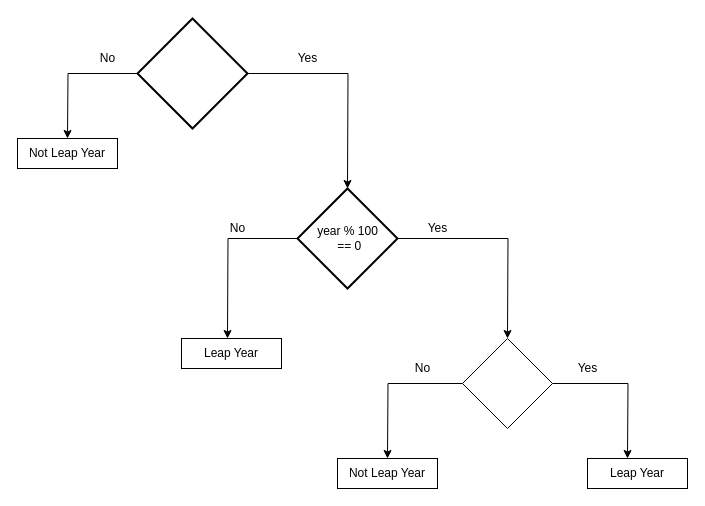
Image size: 705x506. Some labels were removed from this diagram. The box of each missing label's shape, as (x1, y1, x2, y2) in pixels:
year % 4 == 0: (136, 17, 248, 129)
year % 400 == 0: (462, 338, 552, 428)
